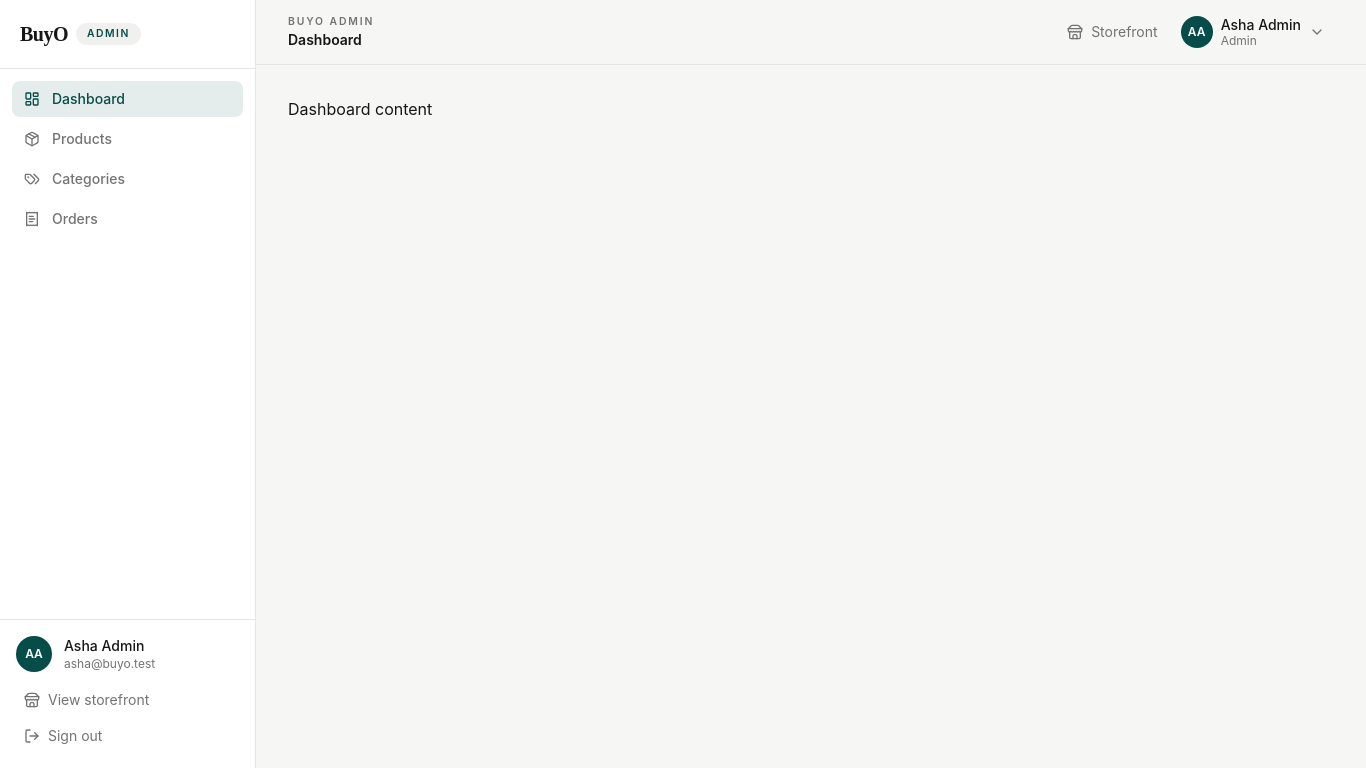
Test case: AdminLayout › renders the admin navigation, account details and accessible account menu
The width and height of the screenshot is (1366, 768).
Expected: the navigation bar named "Admin" is shown, [12,81,243,237]
Expected: the text "Dashboard content" is shown, [288,99,432,119]
Click the button with aria-label "Account menu for Asha Admin".
click(1255, 32)  # box [1176,11,1334,53]
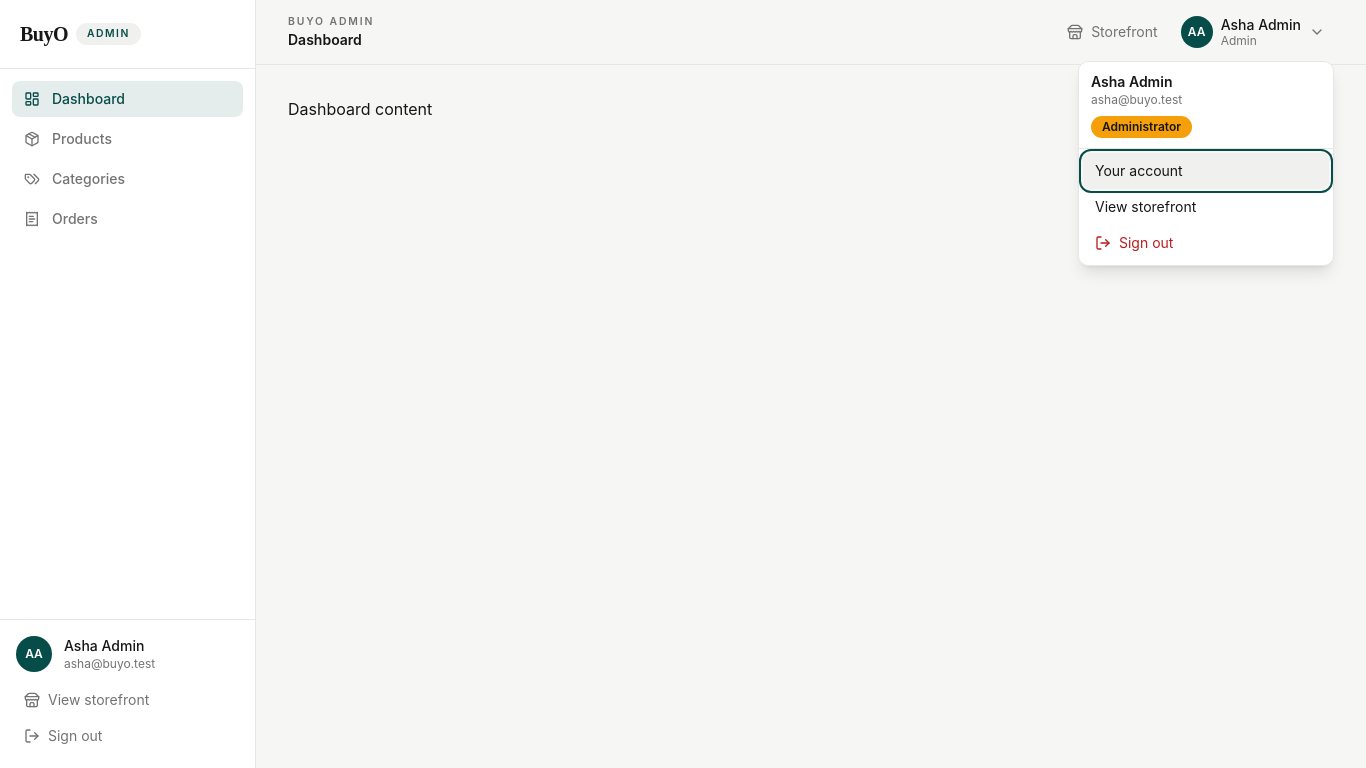
Now the 1st text "asha@buyo.test" is shown, box [1091,92,1182,107]
Now the menu item "Your account" is shown, box [1083,153,1329,189]
Now the menu item "Sign out" is shown, box [1083,225,1329,261]
Press Escape
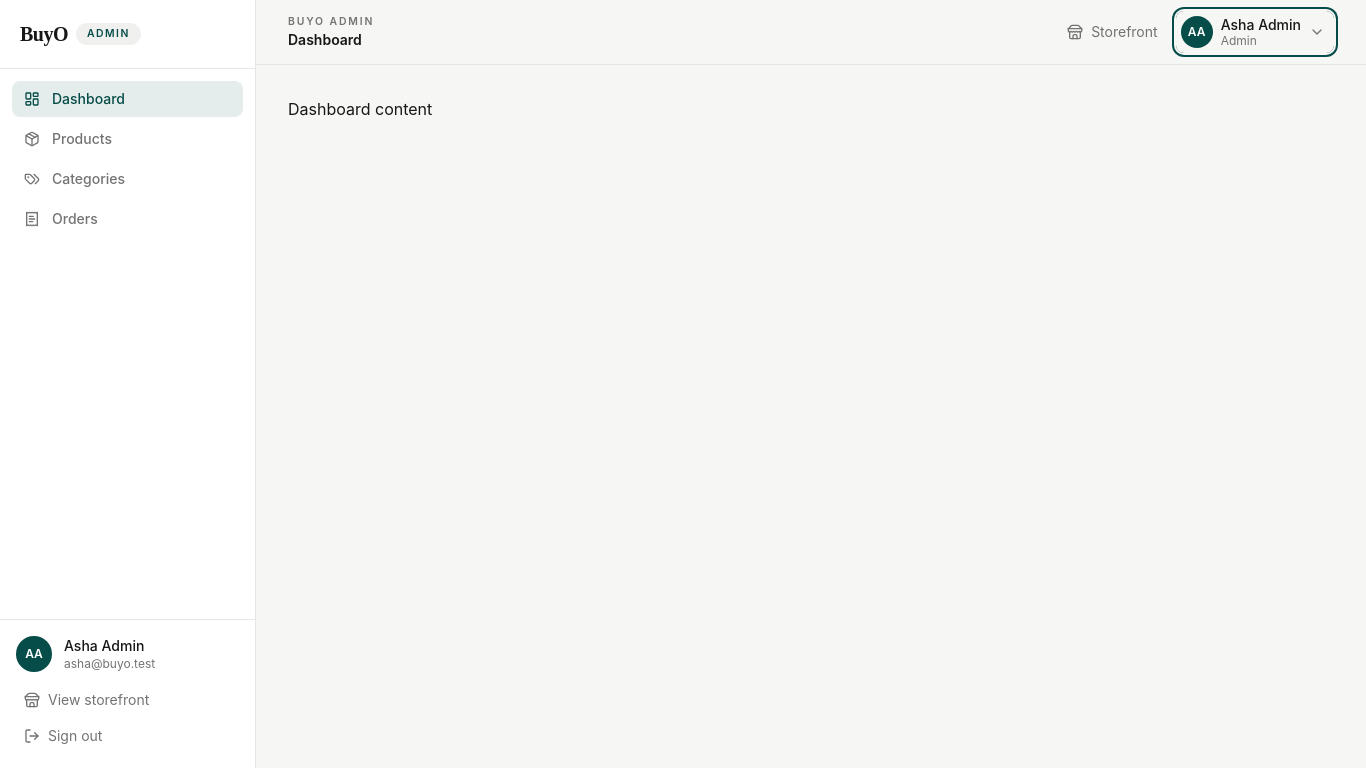
Now the menu item "account" is gone
